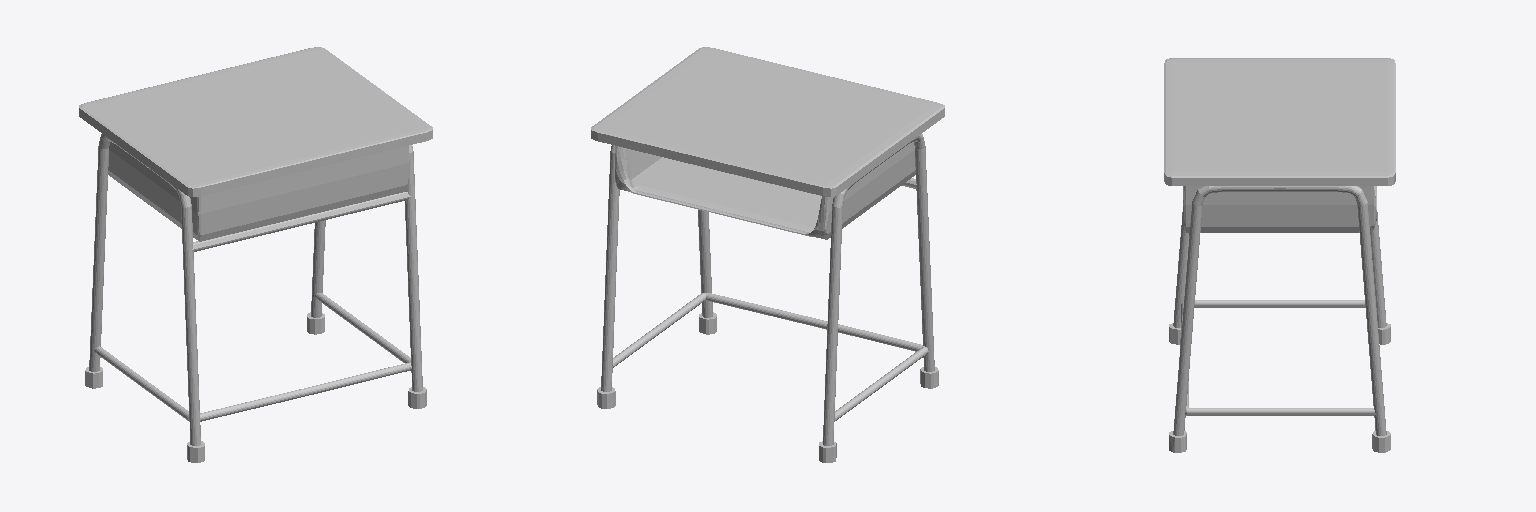
The model's file is desk.obj.
3 renders of one model, left to right at view 1: azimuth 30°, elevation 25°; view 2: azimuth 150°, elevation 25°; view 3: azimuth 270°, elevation 25°, orthographic.
Visible parts, largest first — view 1: desk; view 2: desk; view 3: desk.
Part boxes in pixels (x1,y1,x2,y2): desk: (79,47,432,462); desk: (591,47,944,462); desk: (1164,58,1395,452).
Bounding box in the file's own units: 0.5908 × 0.64 × 0.4825.